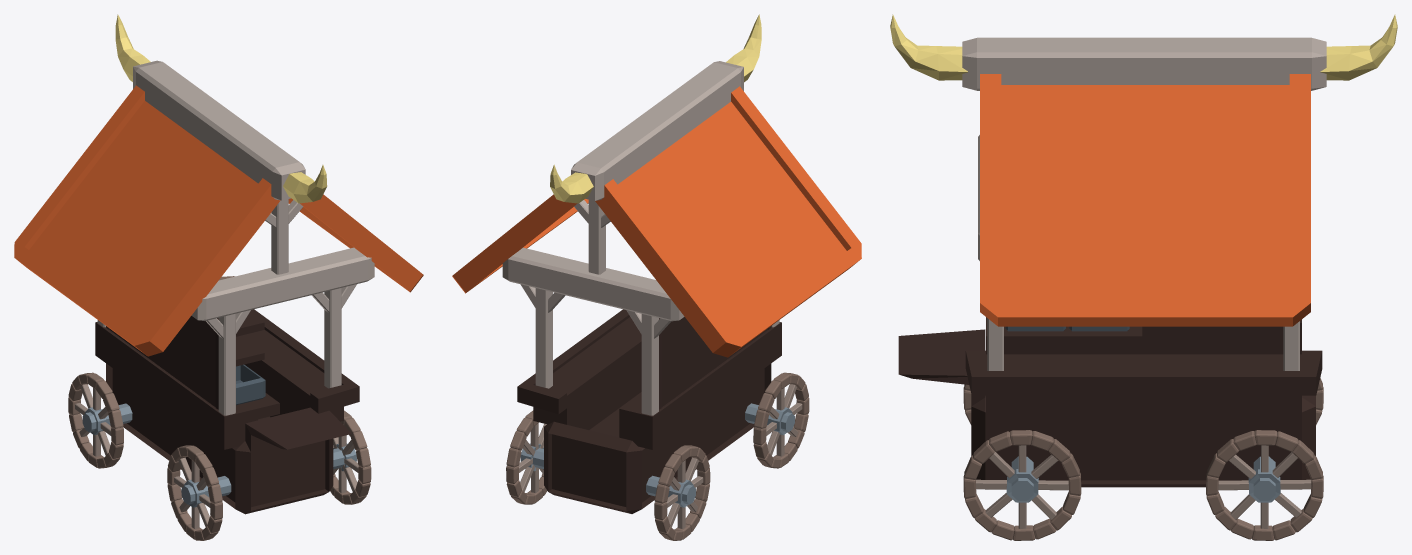
The model's file is Cariolle.obj.
3 views of the same model, side by side, from view 1: azimuth 30°, elevation 25°; view 2: azimuth 150°, elevation 25°; view 3: azimuth 270°, elevation 25° (orthographic). The views are drawn at different scales.
Parts seen in each view (by area): view 1: Cube.092, Cube.084, Cube.086, Cube.091, Cube.082, Cube.089, Cube.087, Cube.090, Cube.085, Cylinder.052, Cylinder.050, Cube.088 (+1 smaller); view 2: Cube.092, Cube.086, Cube.084, Cube.091, Cube.082, Cube.089, Cube.090, Cube.087, Cube.085, Cylinder.052, Cylinder.050, Cube.088; view 3: Cube.092, Cube.086, Cube.084, Cube.091, Cube.082, Cube.085, Cylinder.052, Cylinder.050, Cube.090.
Part boxes in pixels (box(x1,y1,x2,y2)): Cube.092: box(14, 85, 423, 356); Cube.084: box(106, 363, 351, 514); Cube.086: box(95, 309, 359, 449); Cube.091: box(133, 60, 305, 200); Cube.082: box(68, 372, 371, 540); Cube.089: box(191, 247, 374, 320); Cube.087: box(106, 312, 264, 409); Cube.090: box(97, 284, 356, 415); Cube.085: box(75, 384, 358, 528); Cylinder.052: box(115, 14, 327, 203); Cylinder.050: box(82, 403, 356, 507); Cube.088: box(265, 199, 303, 274); Cube.092: box(452, 86, 861, 357); Cube.086: box(517, 309, 781, 449); Cube.084: box(544, 363, 771, 513); Cube.091: box(571, 61, 743, 200); Cube.082: box(506, 372, 809, 540); Cube.089: box(502, 247, 684, 321); Cube.090: box(520, 284, 779, 415); Cube.087: box(659, 317, 771, 409); Cube.085: box(518, 384, 802, 528); Cylinder.052: box(550, 14, 761, 203); Cylinder.050: box(520, 403, 794, 507); Cube.088: box(574, 199, 610, 274); Cube.092: box(980, 74, 1310, 326); Cube.086: box(965, 317, 1322, 414); Cube.084: box(898, 329, 1315, 487); Cube.091: box(962, 37, 1326, 90); Cube.082: box(963, 378, 1323, 540); Cube.085: box(976, 445, 1311, 528); Cylinder.052: box(890, 14, 1397, 80); Cylinder.050: box(1006, 456, 1280, 502); Cube.090: box(987, 318, 1299, 370).
Bounding box in the file's own units: 11.02 × 14.32 × 13.69.
1 material, 1 textured.
